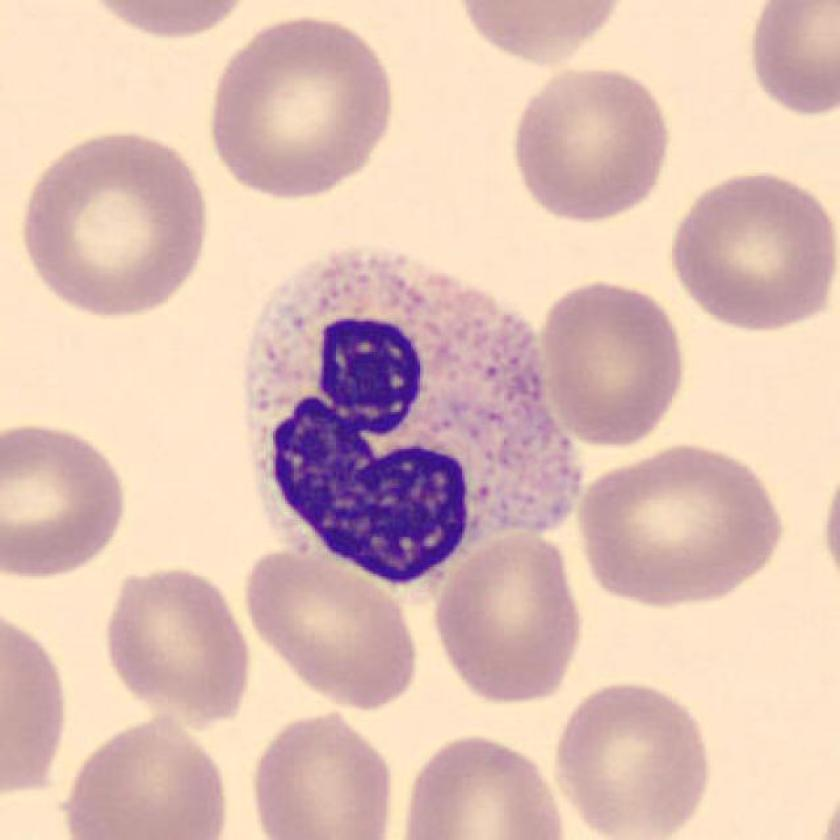neutrophil: (249, 256, 585, 601)
